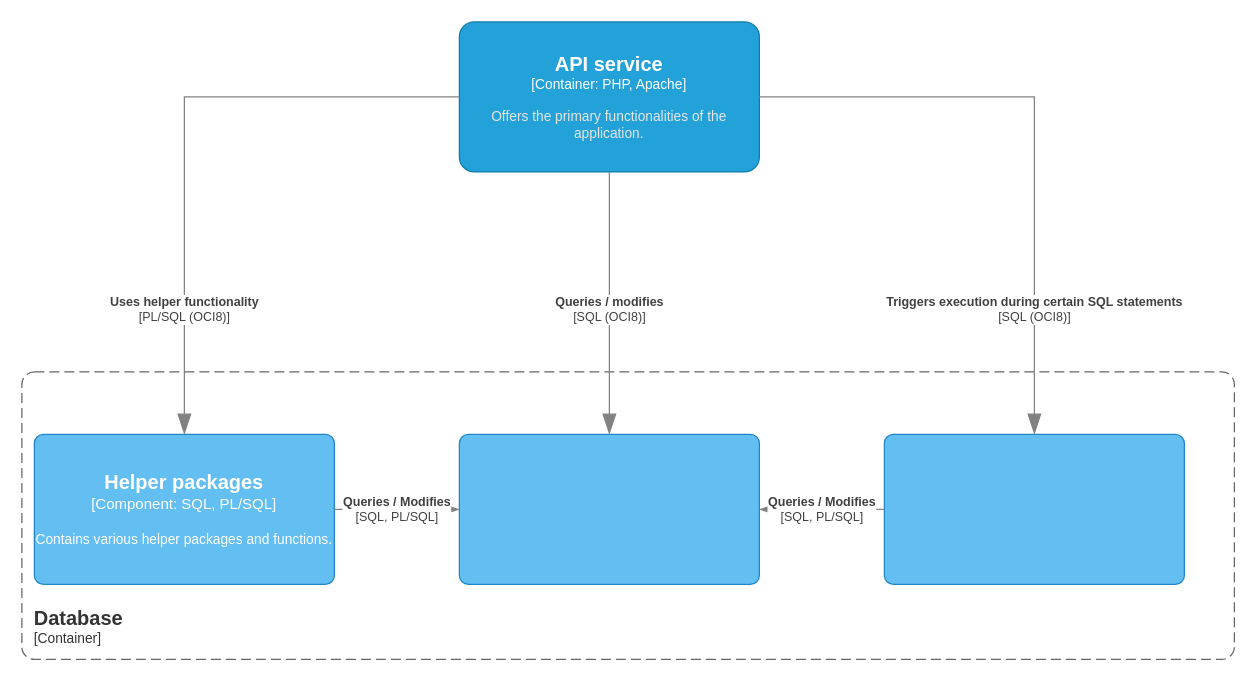
The diagram is 1256 pixels wide and 681 high, and some of its shapes have lost their labels. The shapes that lost their labels are listed below. From the top down, each one's centre as x and y in pixels, then its label:
At point 608,508: "Tables [Component: SQL] Contains all the database tables, views, indexes etc.".
At point 1033,508: "Triggers [Component: SQL, PL/SQL] Contains various database triggers.".
